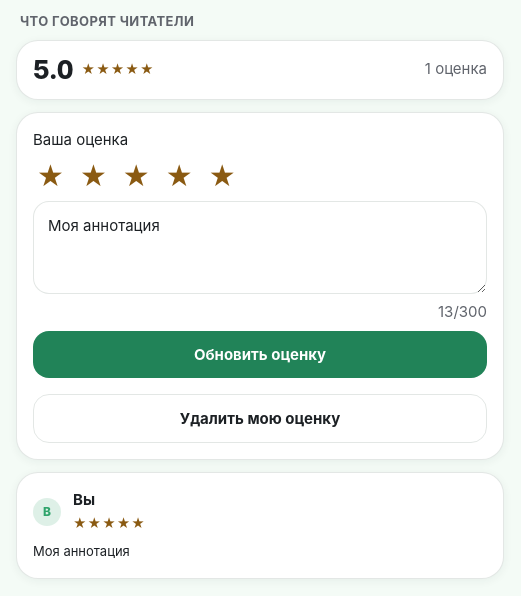
it: оценки и аннотации в карточке книги › удаление своей оценки очищает форму и среднюю
The image size is (521, 596).
Click the button "Удалить мою оценку" at (260, 419), box [33,394,487,443]
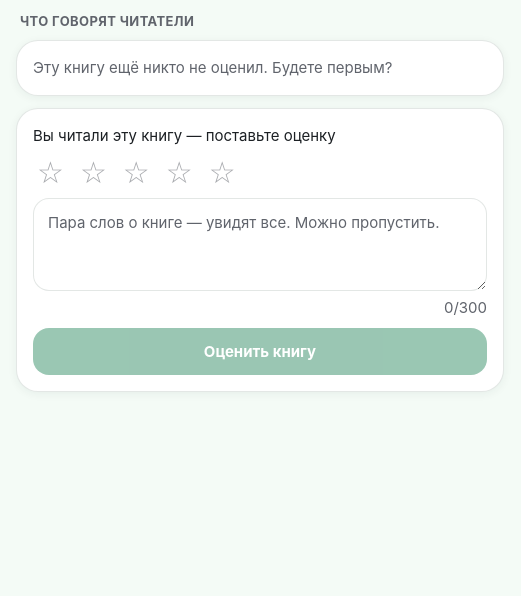
Result: the text "Эту книгу ещё никто не оценил. Будете первым?" is shown at [33,56,392,79]
Result: the text "Моя аннотация" is gone
